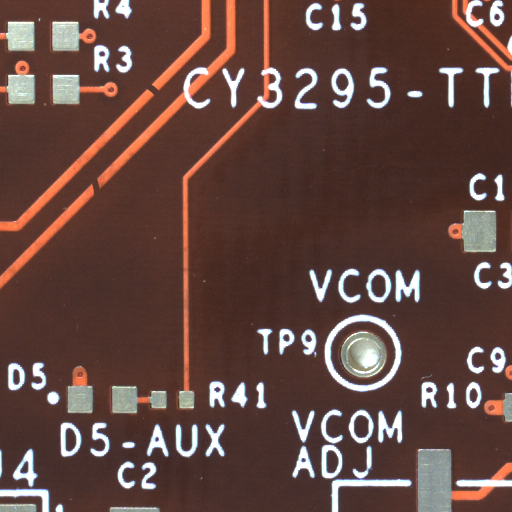Open_circuit: (153, 89, 172, 110), (96, 185, 106, 210)
